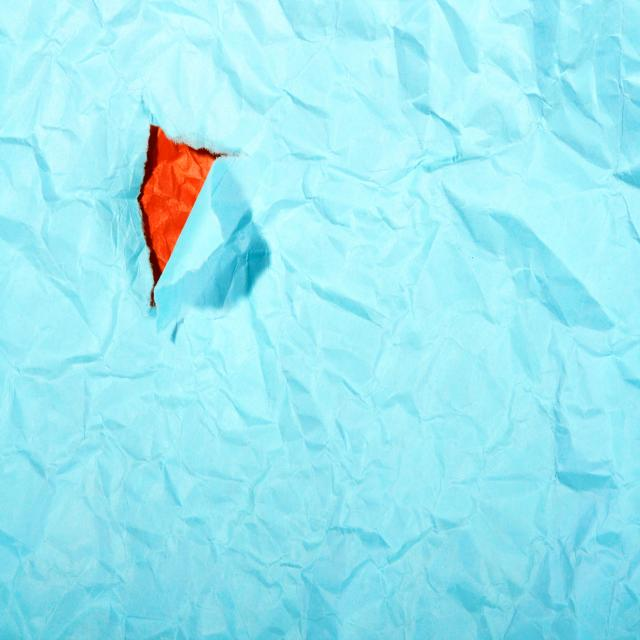paper: (314, 165, 446, 461)
